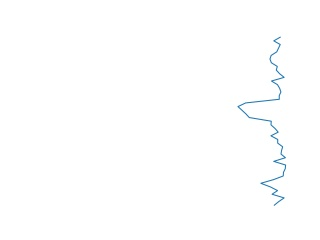interdistributaryEstuary: (235, 34, 288, 205)
